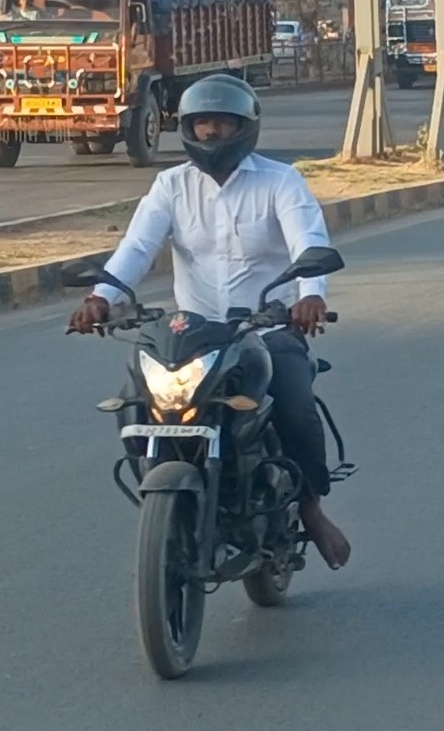BikeWithRider: (50, 68, 367, 688)
Helmet: (161, 68, 273, 178)
